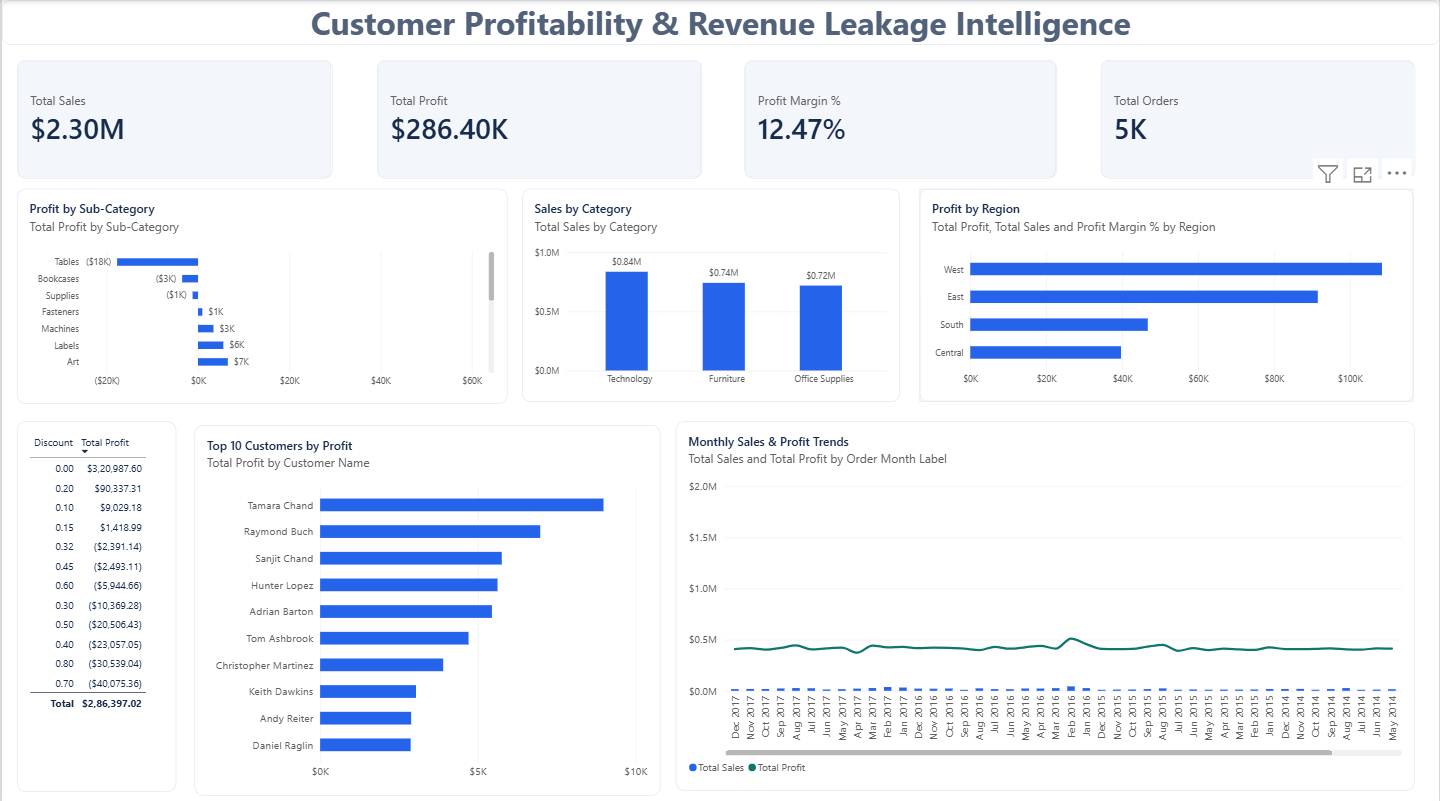

The page's visual inventory and layout, read from the dashboard file:
{"tool":"powerbi","page":{"name":"Executive Overview . Superstore","canvas":[1920,1080],"ordinal":0},"visuals":[{"type":"cardVisual","fields":{"Data":["Sample - Superstore.Total Sales"]},"box":[20.6,80.3,422,158.5],"z":0},{"type":"cardVisual","fields":{"Data":["Sample - Superstore.Total Profit"]},"box":[500.2,80.3,434.3,158.5],"z":1000},{"type":"cardVisual","fields":{"Data":["Sample - Superstore.Profit Margin %"]},"box":[992.1,80.3,417.8,158.5],"z":2000},{"type":"cardVisual","fields":{"Data":["Sample - Superstore.Total Orders"]},"box":[1467.6,80.3,419.9,158.5],"z":3000},{"type":"clusteredBarChart","title":"Profit by Sub-Category","fields":{"Category":["Sample - Superstore.Sub-Category"],"Y":["Sample - Superstore.Total Profit"]},"box":[20,252.5,655,287.5],"z":4000},{"type":"clusteredColumnChart","title":"Sales by Category","fields":{"Category":["Sample - Superstore.Category"],"Y":["Sample - Superstore.Total Sales"]},"box":[695,252.5,505,285],"z":5000},{"type":"lineClusteredColumnComboChart","title":"Monthly Sales & Profit Trends","fields":{"Category":["Sample - Superstore.Order Month Label"],"Y":["Sample - Superstore.Total Sales"],"Y2":["Sample - Superstore.Total Profit"]},"box":[900,563.4,987.2,493.6],"z":6000},{"type":"clusteredBarChart","title":"Profit by Region","fields":{"Category":["Sample - Superstore.Region"],"Y":["Sample - Superstore.Total Profit"]},"box":[1225,252.5,660,285],"z":7000},{"type":"textbox","box":[0,0,1920.4,59.7],"z":8000},{"type":"tableEx","title":"Profit by Discount Level","fields":{"Values":["Sample - Superstore.Discount","Sample - Superstore.Total Profit"]},"box":[20,562.5,212.5,495],"z":9000},{"type":"clusteredBarChart","title":"Top 10 Customers by Profit","fields":{"Category":["Sample - Superstore.Customer Name"],"Y":["Sample - Superstore.Total Profit"]},"box":[257.5,567.5,622.5,495],"z":10000}]}

Visuals, with their boxes in screenshot pixels (x1, y1, x2, y2), scaled from the page's 1920x1080 canvas onto the 1440x801 screenshot:
cardVisual - Sample - Superstore.Total Sales: (x1=15, y1=60, x2=332, y2=177)
cardVisual - Sample - Superstore.Total Profit: (x1=375, y1=60, x2=701, y2=177)
cardVisual - Sample - Superstore.Profit Margin %: (x1=744, y1=60, x2=1057, y2=177)
cardVisual - Sample - Superstore.Total Orders: (x1=1101, y1=60, x2=1416, y2=177)
"Profit by Sub-Category" clusteredBarChart: (x1=15, y1=187, x2=506, y2=400)
"Sales by Category" clusteredColumnChart: (x1=521, y1=187, x2=900, y2=399)
"Monthly Sales & Profit Trends" lineClusteredColumnComboChart: (x1=675, y1=418, x2=1415, y2=784)
"Profit by Region" clusteredBarChart: (x1=919, y1=187, x2=1414, y2=399)
textbox: (x1=0, y1=0, x2=1439, y2=44)
"Profit by Discount Level" tableEx: (x1=15, y1=417, x2=174, y2=784)
"Top 10 Customers by Profit" clusteredBarChart: (x1=193, y1=421, x2=660, y2=788)
